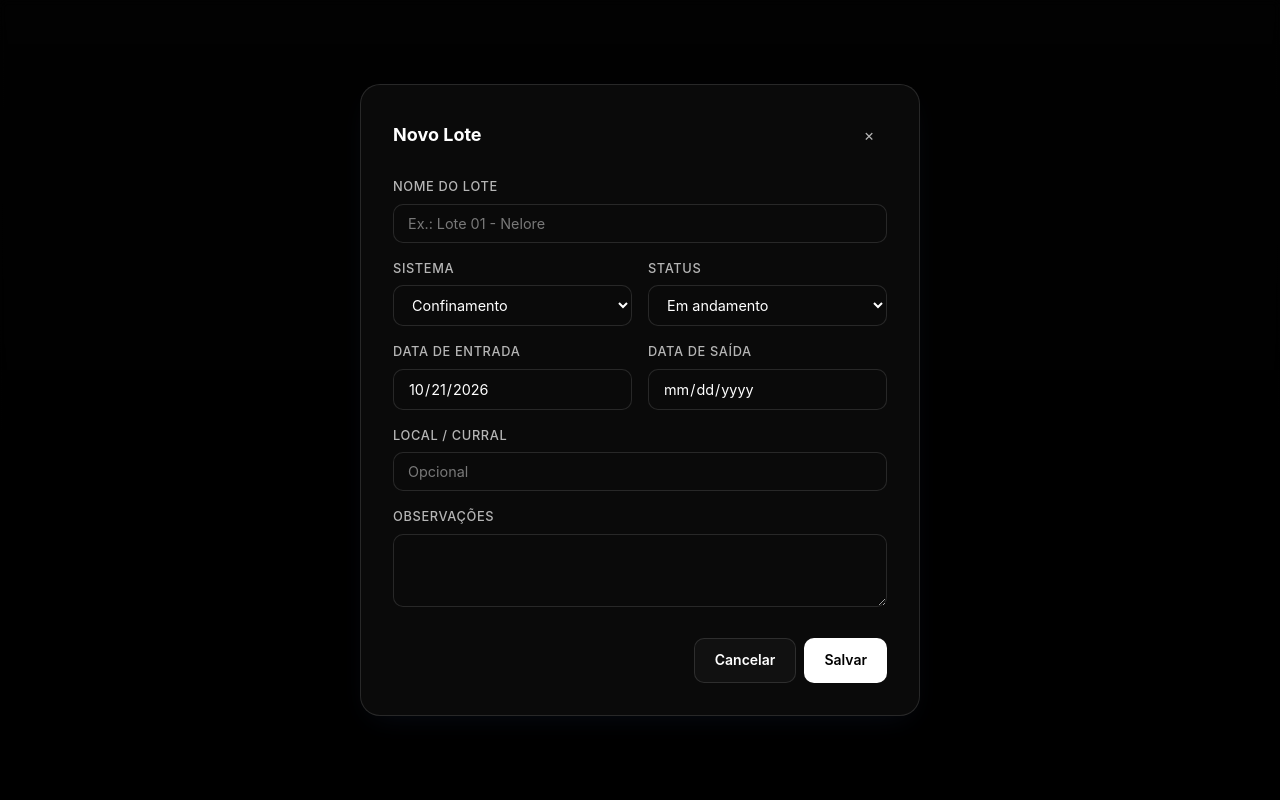
Test: CattleLotModal › falls back to a generic message for unexpected errors
Type "Lote 01" into the field labelled "Nome do lote". click: (640, 223)
box: 393,204 -> 887,243
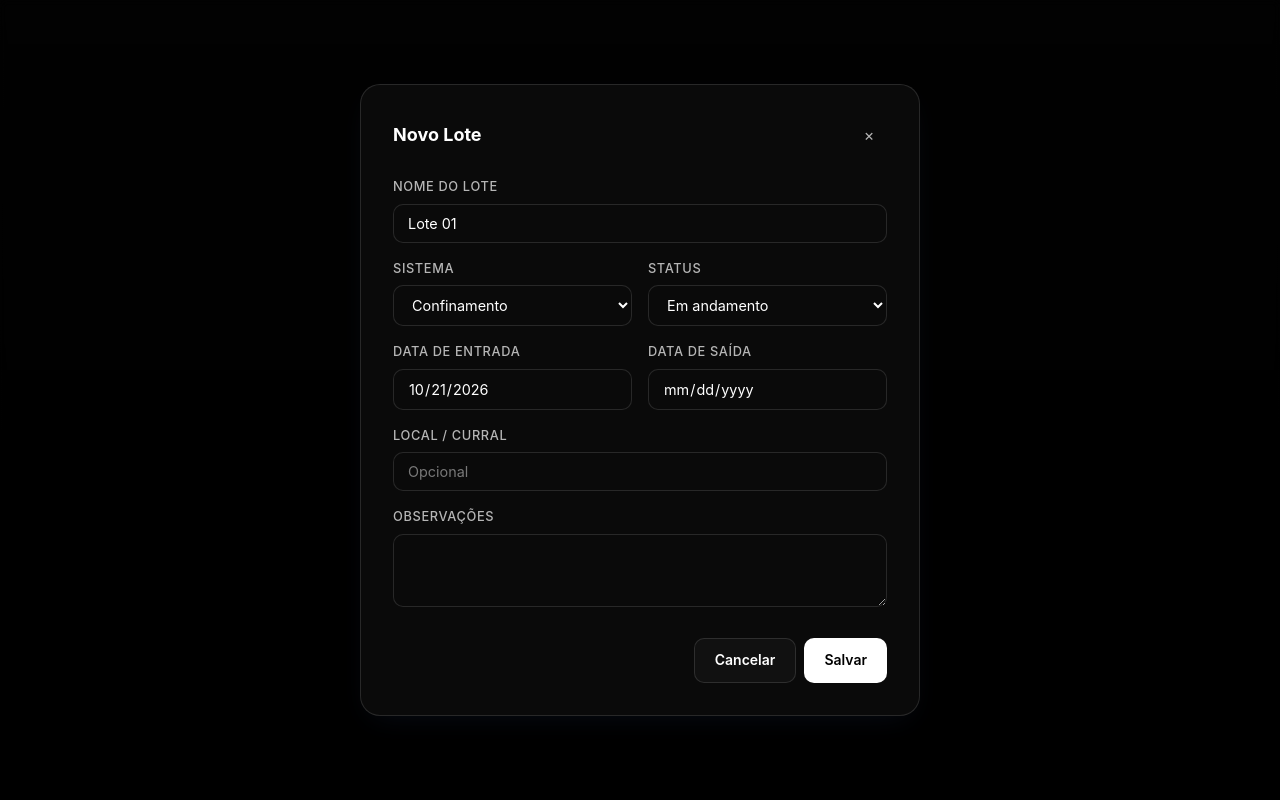
Click the button "Salvar". click: (846, 660)
box: 804,638 -> 887,683
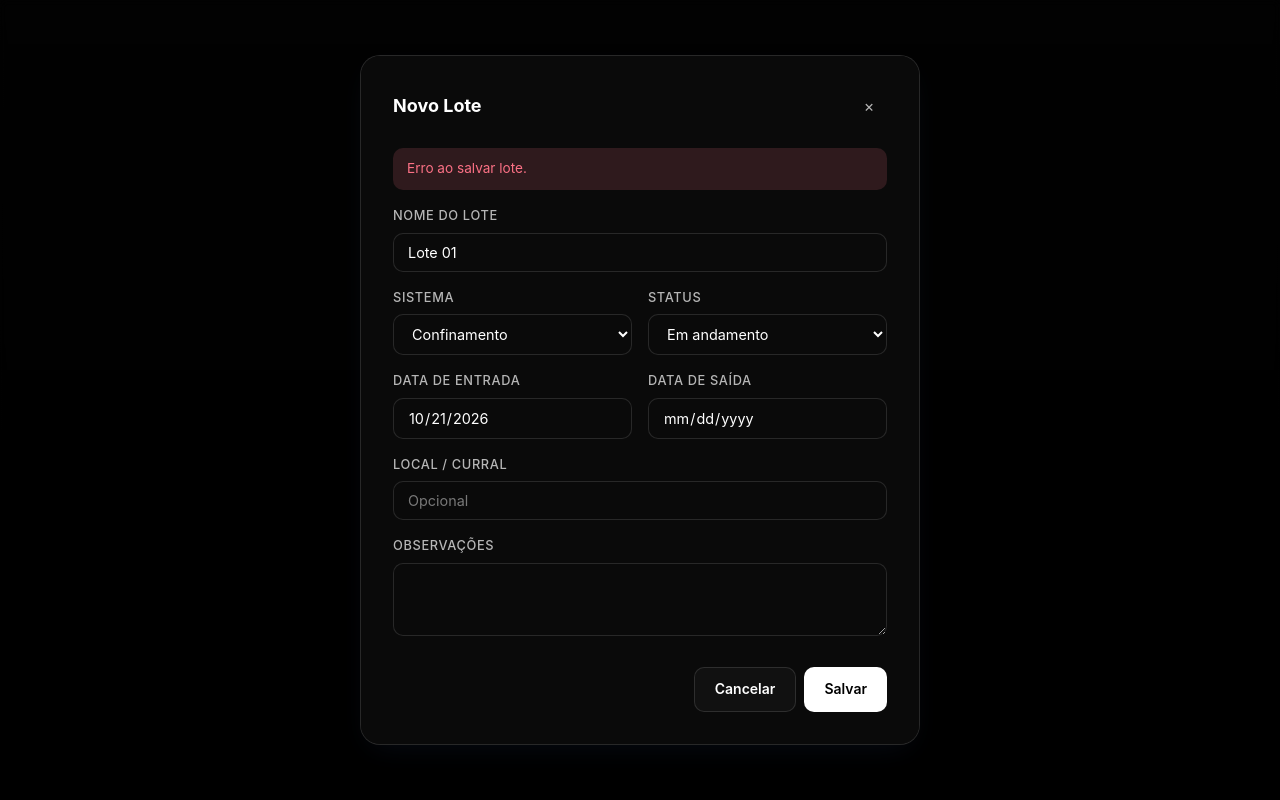
Expected: the text "Erro ao salvar lote." is shown, 393,148 -> 887,190
